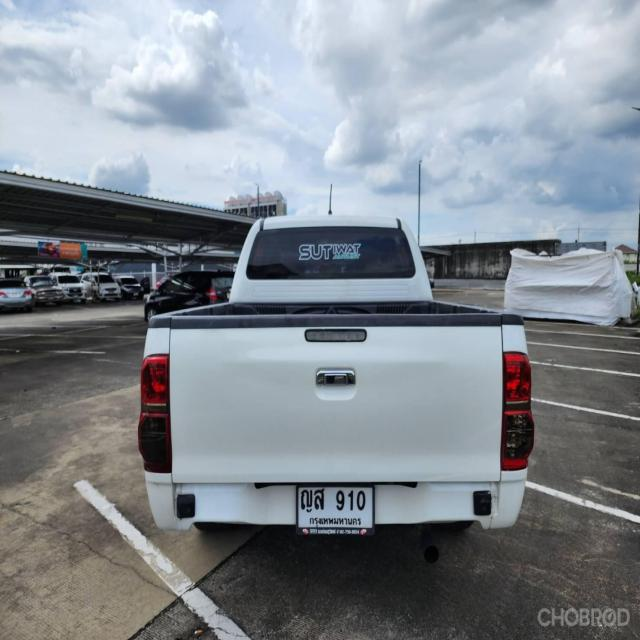license_plate: (295, 482, 376, 538)
